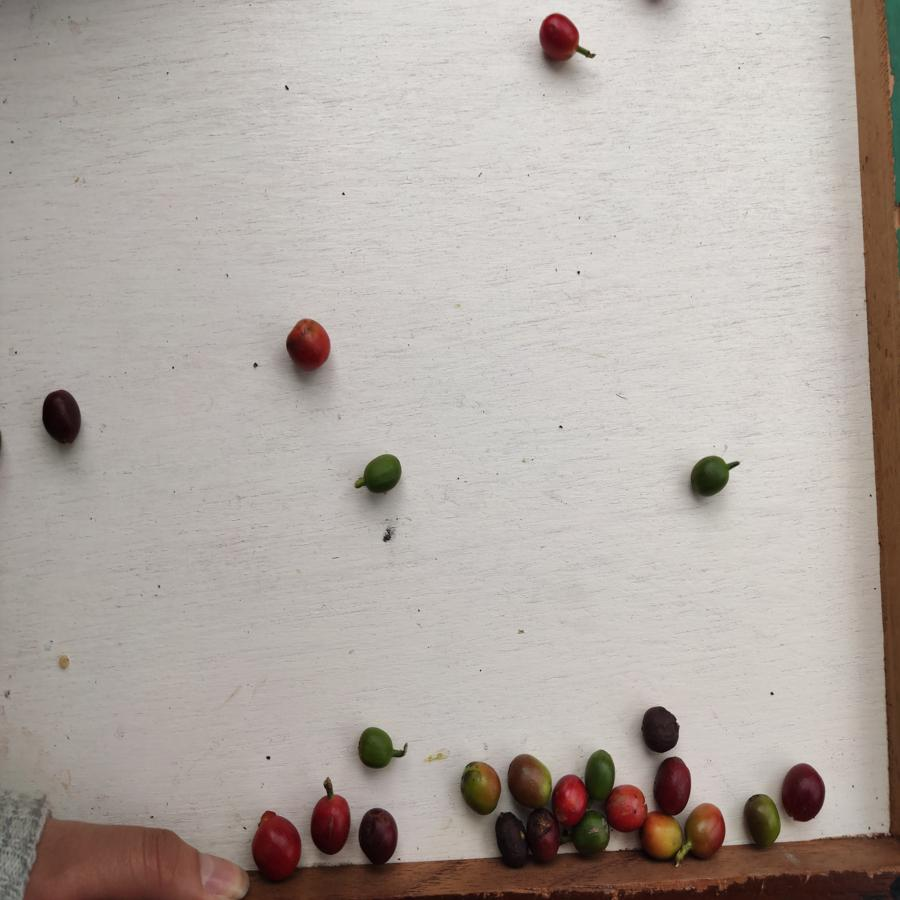Inmaduro: (687, 455, 733, 501), (355, 724, 395, 772), (362, 452, 403, 495), (581, 749, 615, 798), (577, 812, 609, 855)
Maduro: (250, 813, 304, 882), (308, 790, 354, 858), (283, 319, 333, 372), (650, 755, 694, 815), (538, 11, 582, 68), (607, 785, 646, 833), (552, 774, 587, 823)
Pinton: (458, 761, 506, 815), (504, 755, 552, 805), (742, 792, 784, 848), (685, 804, 727, 857), (639, 811, 685, 858)
Sobremaduro: (783, 759, 828, 823), (40, 390, 85, 449), (359, 809, 401, 863), (640, 707, 682, 753), (494, 812, 528, 868), (529, 808, 559, 865)
